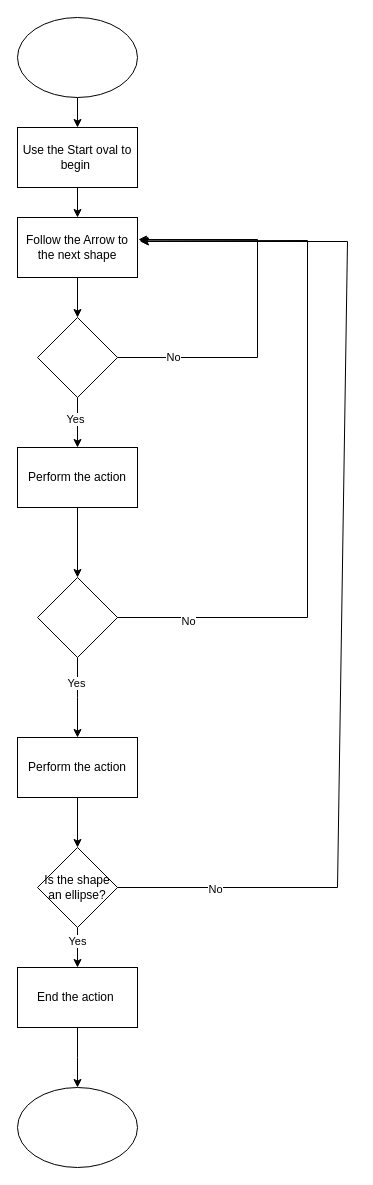
The diagram is 373 pixels wide and 1185 high, and some of its shapes have lost their labels. Here are the shapes that lost their labels. From the top down, the centre of each, then its label:
At point 77,57: "Start".
At point 77,357: "Is the shape a rectangle?".
At point 77,617: "Is the shape a Diamond?".
